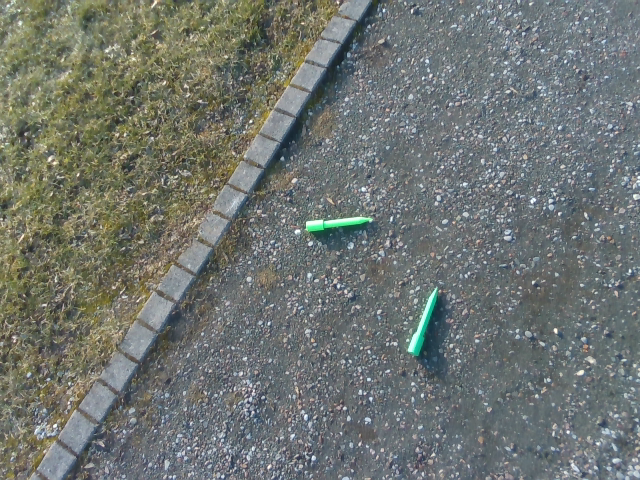Probe: (405, 284, 444, 361), (303, 212, 378, 236)
